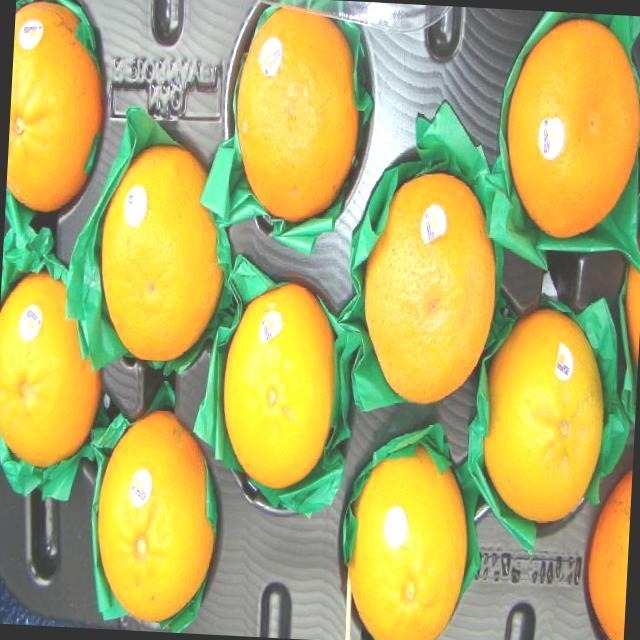Orange: (359, 169, 501, 409), (501, 15, 640, 243), (95, 142, 230, 367), (230, 4, 364, 226), (478, 306, 609, 528), (92, 407, 221, 627), (218, 280, 340, 493), (343, 441, 472, 640), (5, 0, 108, 216), (0, 270, 107, 472), (583, 468, 632, 640), (620, 229, 640, 378)
